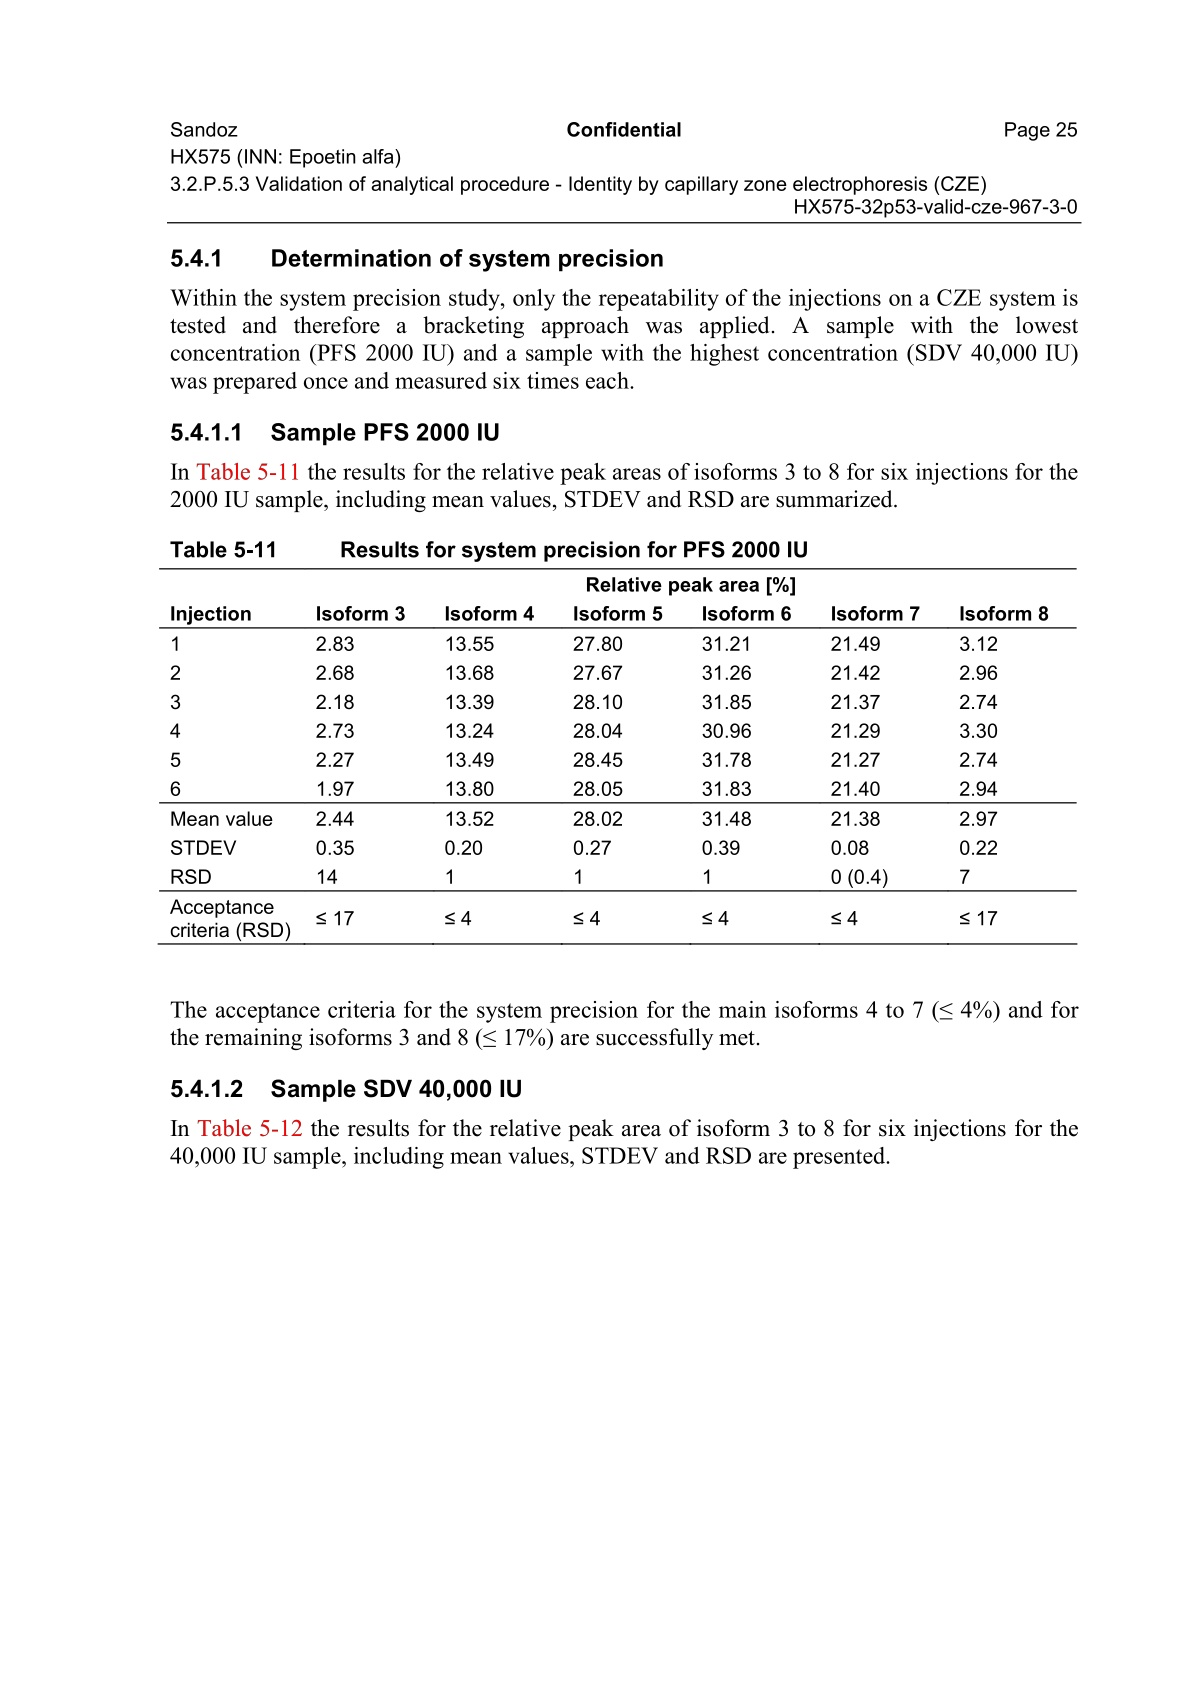partial_lined_merged_cells: (156, 566, 1083, 948)
